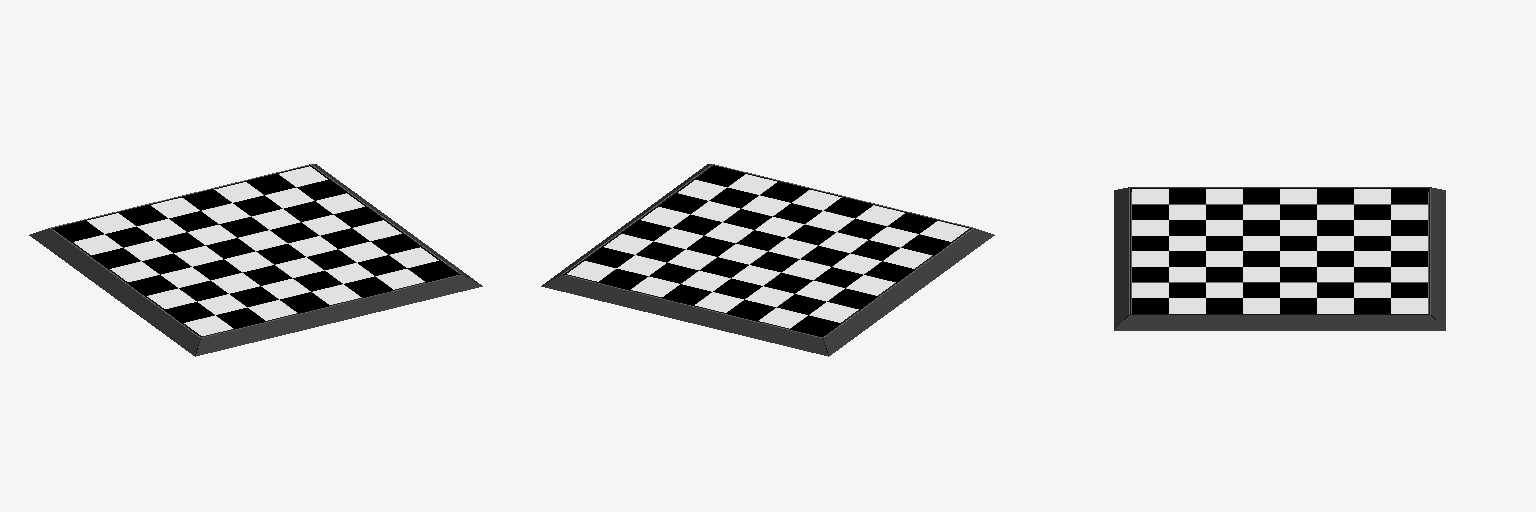
The picture shows the model from 3 angles: view 1: azimuth 30°, elevation 25°; view 2: azimuth 150°, elevation 25°; view 3: azimuth 270°, elevation 25°; orthographic projection.
Parts seen in each view (by area): view 1: Plane; view 2: Plane; view 3: Plane.
Part boxes in pixels (left/top/right/bottom): Plane: left=29, top=164, right=482, bottom=356; Plane: left=541, top=164, right=994, bottom=356; Plane: left=1114, top=187, right=1445, bottom=330.
Bounding box in the file's own units: 7.92 × 0.2441 × 7.92.
1 materials, 1 textured.